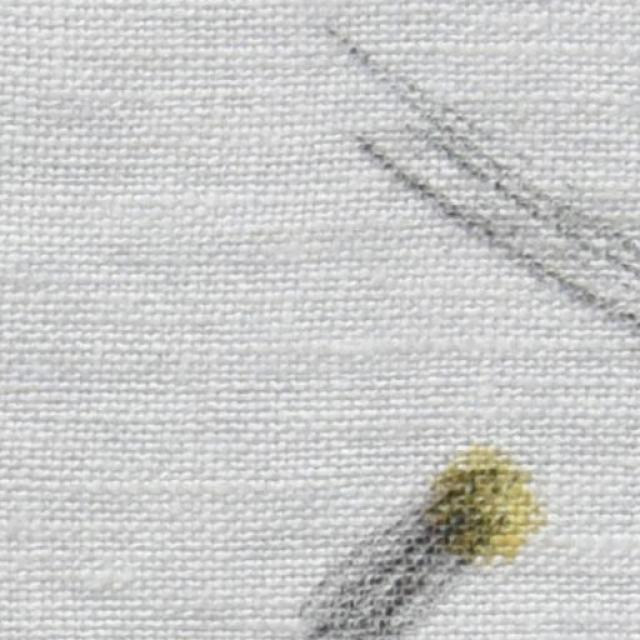Stain: (330, 23, 640, 335), (305, 440, 550, 640)
